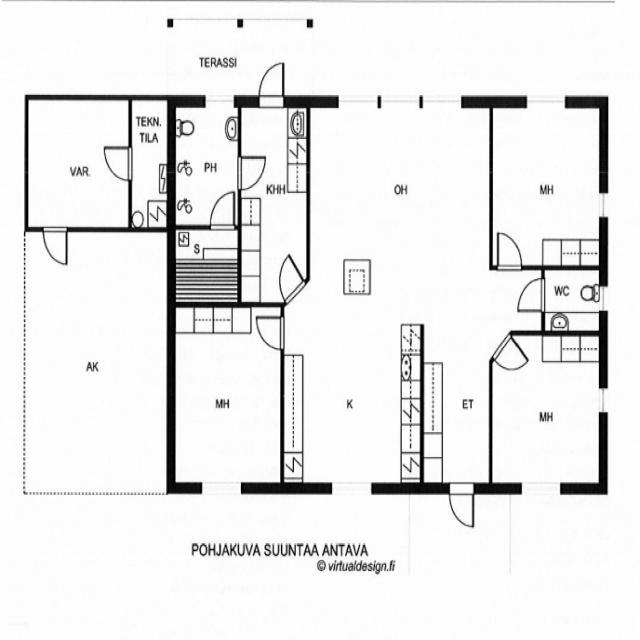door: (493, 226, 525, 272), (447, 482, 477, 531), (257, 58, 287, 105), (515, 274, 548, 316), (493, 335, 529, 373), (235, 153, 268, 193), (102, 144, 135, 182), (255, 311, 286, 351), (208, 188, 237, 230), (41, 224, 69, 267), (277, 260, 303, 302)
window: (335, 90, 422, 110), (379, 90, 463, 110), (325, 477, 376, 498), (196, 477, 247, 497), (516, 478, 566, 498), (522, 90, 570, 110), (201, 92, 238, 106), (596, 189, 611, 223), (597, 280, 611, 316), (596, 383, 610, 418)
zone: (304, 99, 492, 488), (172, 304, 282, 487), (491, 102, 602, 268), (490, 332, 603, 489), (238, 102, 309, 303), (27, 100, 132, 228), (173, 102, 239, 225), (171, 224, 241, 306), (128, 98, 170, 230), (542, 266, 603, 332)
